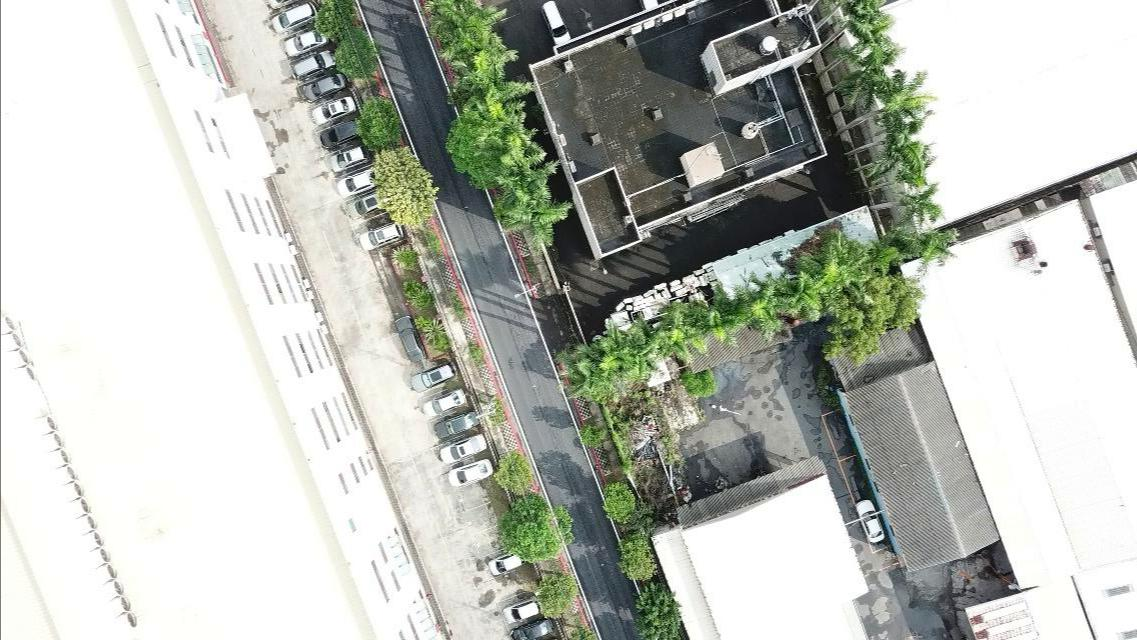vehicle: (292, 46, 341, 80), (439, 433, 488, 465), (394, 315, 425, 364), (270, 3, 318, 34), (335, 167, 380, 200), (282, 27, 331, 57), (310, 95, 357, 126), (411, 363, 456, 395), (538, 0, 571, 43), (421, 389, 466, 419), (855, 500, 884, 546), (319, 119, 362, 150), (433, 412, 479, 440), (448, 457, 492, 486), (301, 72, 345, 100), (346, 191, 388, 220), (328, 145, 370, 174), (359, 224, 405, 250), (502, 597, 543, 624), (487, 549, 525, 577), (511, 617, 553, 639)
